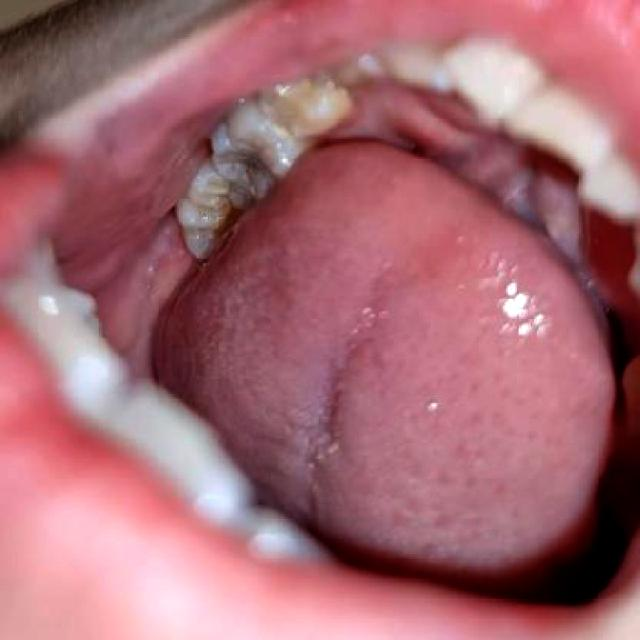Plaque: (218, 139, 272, 194)
